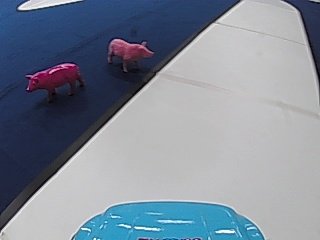pig: (21, 60, 84, 102), (105, 35, 154, 72)
